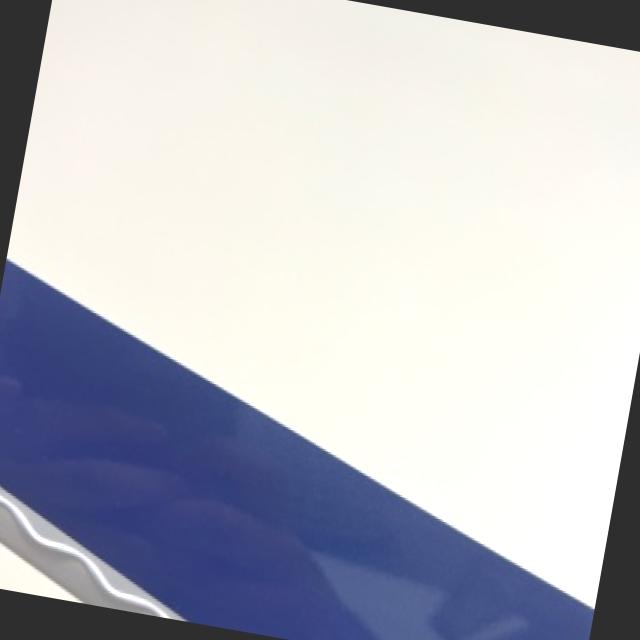healthy: (0, 258, 592, 640)
